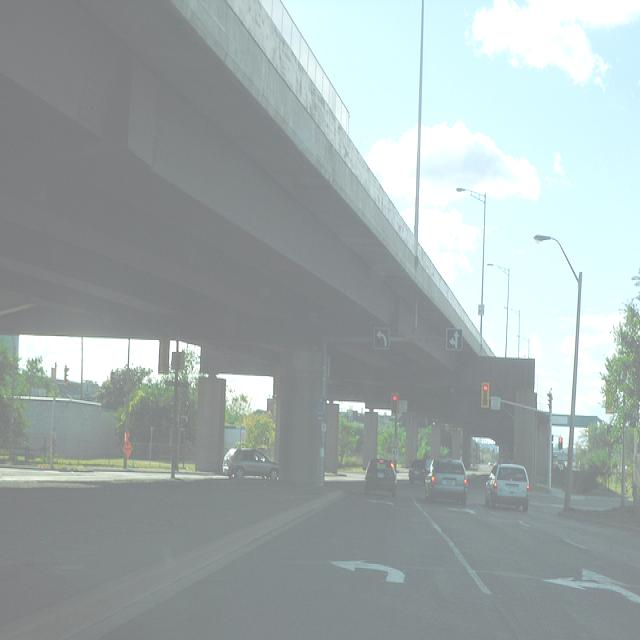Car: (223, 441, 281, 486), (484, 461, 530, 514), (360, 455, 401, 503), (424, 461, 470, 503)
